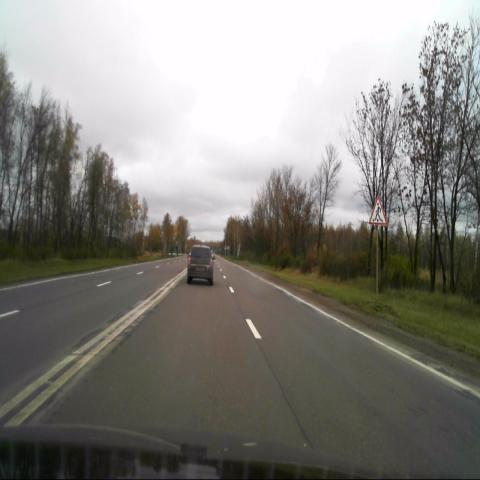1_22: (368, 196, 386, 226)
